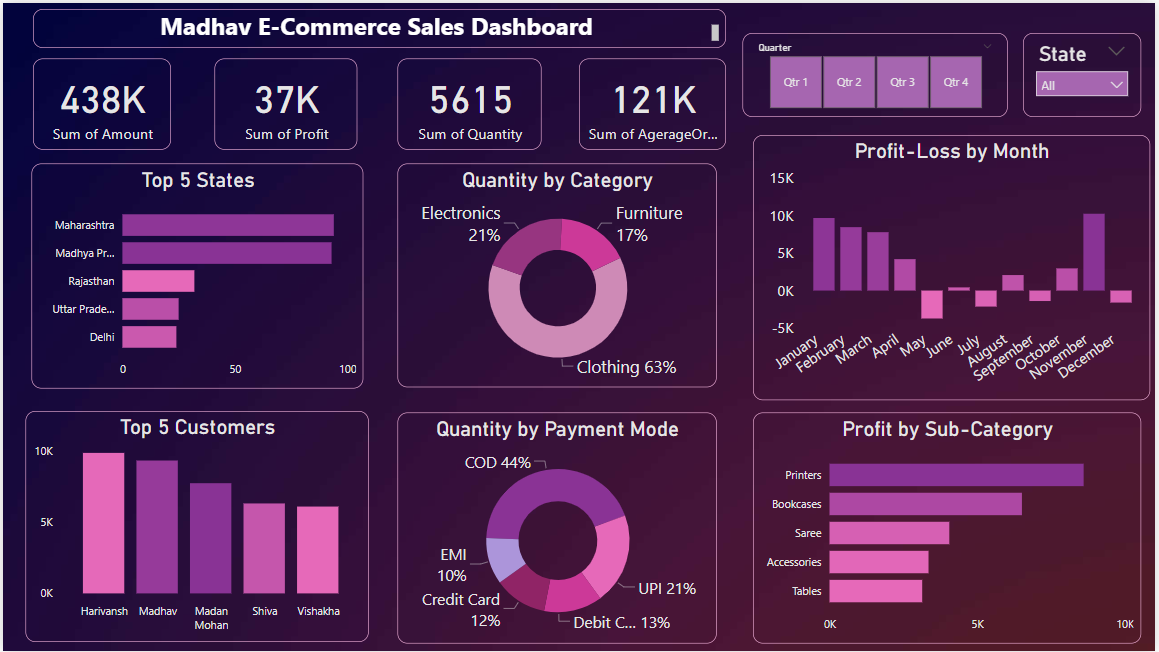

This screenshot's page, from the dashboard's own definition file:
{"tool":"powerbi","page":{"name":"Page 1","canvas":[1280,720],"ordinal":0},"visuals":[{"type":"columnChart","title":" Profit-Loss by Month","fields":{"Y":["Details.Profit"],"Category":["Orders.Order Date.Variation.Date Hierarchy.Month"]},"box":[833.3,146.7,441.1,294.4],"z":0},{"type":"barChart","title":" Profit by Sub-Category","fields":{"Y":["Details.Profit"],"Category":["Details.Sub-Category"]},"box":[833.3,454.4,431.1,256.7],"z":1000},{"type":"donutChart","title":"Quantity by Category","fields":{"Y":["Details.Quantity"],"Category":["Details.Category"]},"box":[438.9,178.9,354.4,248.9],"z":2000},{"type":"donutChart","title":"Quantity by Payment Mode","fields":{"Category":["Details.PaymentMode"],"Y":["Details.Quantity"]},"box":[438.9,454.4,354.4,256.7],"z":3000},{"type":"barChart","title":"Top 5 States","fields":{"Category":["Orders.State"],"Y":["Orders.Order ID"]},"box":[31.1,178.9,368.9,250],"z":4000},{"type":"columnChart","title":"Top 5 Customers","fields":{"Category":["Orders.CustomerName"],"Y":["Details.Amount"]},"box":[24.4,453.3,381.1,256.7],"z":5000},{"type":"card","fields":{"Values":["Details.Amount"]},"box":[33.3,62.2,153.3,101.1],"z":6000},{"type":"card","fields":{"Values":["Details.Profit"]},"box":[234.4,62.2,158.9,101.1],"z":7000},{"type":"card","fields":{"Values":["Details.Quantity"]},"box":[438.9,62.2,160,101.1],"z":8000},{"type":"card","fields":{"Values":["Details.AgerageOrderValue"]},"box":[640,62.2,163.3,101.1],"z":9000},{"type":"textbox","box":[33.3,7,770,43.3],"z":10000},{"type":"slicer","fields":{"Values":["Orders.Order Date.Variation.Date Hierarchy.Quarter"]},"box":[822.2,33.3,294.4,93.3],"z":10001},{"type":"slicer","fields":{"Values":["Orders.State"]},"box":[1133.3,33.3,131.1,93.3],"z":10002}]}

Visuals, with their boxes in screenshot pixels (x1, y1, x2, y2), scaled from the page's 1280x720 canvas onto the 1159x652 screenshot:
" Profit-Loss by Month" columnChart: locate(755, 133, 1154, 399)
" Profit by Sub-Category" barChart: locate(755, 411, 1145, 644)
"Quantity by Category" donutChart: locate(397, 162, 718, 387)
"Quantity by Payment Mode" donutChart: locate(397, 411, 718, 644)
"Top 5 States" barChart: locate(28, 162, 362, 388)
"Top 5 Customers" columnChart: locate(22, 410, 367, 643)
card - Details.Amount: locate(30, 56, 169, 148)
card - Details.Profit: locate(212, 56, 356, 148)
card - Details.Quantity: locate(397, 56, 542, 148)
card - Details.AgerageOrderValue: locate(580, 56, 727, 148)
textbox: locate(30, 6, 727, 46)
slicer - Orders.Order Date.Variation.Date Hierarchy.Quarter: locate(744, 30, 1011, 115)
slicer - Orders.State: locate(1026, 30, 1145, 115)
